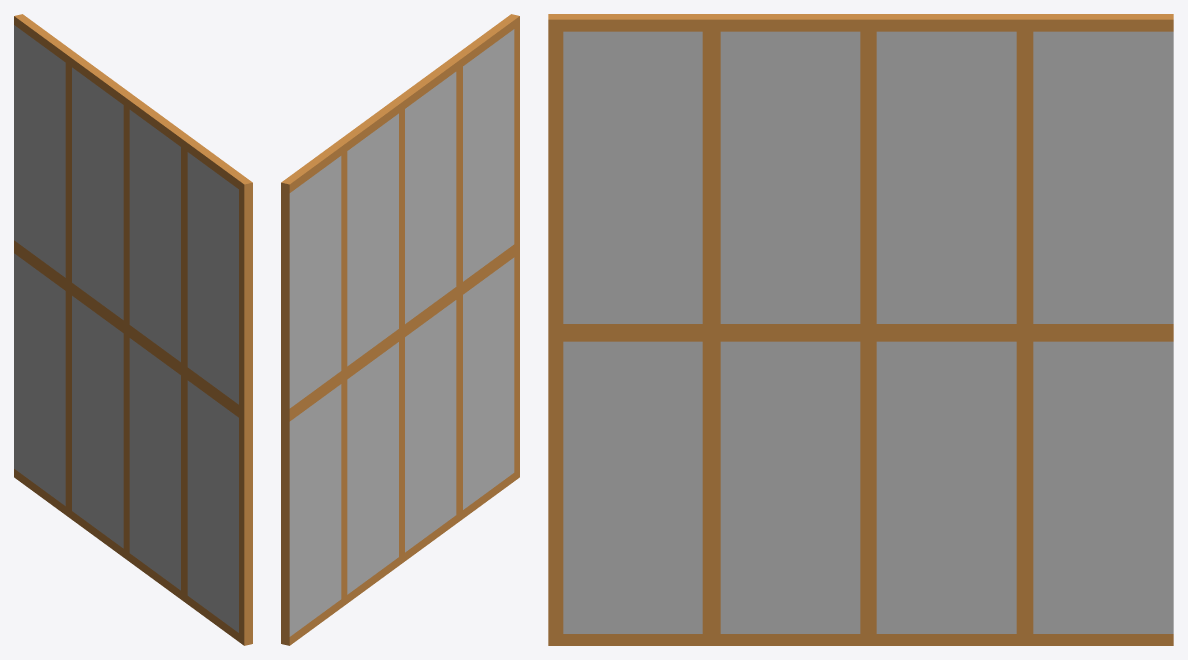
The model's file is wall2.gltf.
3 views of the same model, side by side, from view 1: azimuth 30°, elevation 25°; view 2: azimuth 150°, elevation 25°; view 3: azimuth 270°, elevation 25° (orthographic). The views are drawn at different scales.
Parts seen in each view (by area): view 1: Cube_006_Cube.006; view 2: Cube_006_Cube.006; view 3: Cube_006_Cube.006.
Part boxes in pixels (x1,y1,x2,y2): Cube_006_Cube.006: [14, 14, 252, 645]; Cube_006_Cube.006: [281, 14, 519, 645]; Cube_006_Cube.006: [548, 14, 1173, 645].
Size of the model in its own units: 0.0574 by 3 by 2.71.
